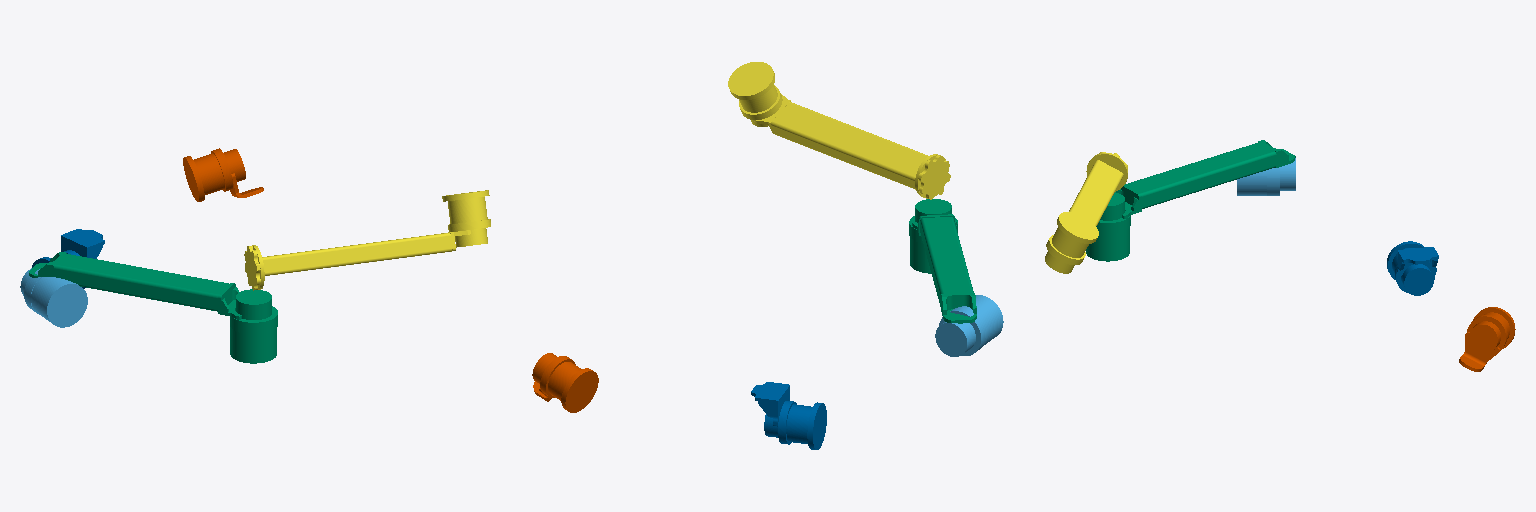
URDF robot description (Arm):
<?xml version="1.0" ?>
<robot name="Arm">


<link name="base_link">
  <inertial>
    <origin xyz="0 0 0" rpy="1.57079632679 0 0"/>
    <mass value="0.2689091995006286"/>
    <inertia ixx="0.0002408366428192344" iyy="0.0001965672947454995" izz="0.0002424930780899016" ixy="-7.00575013293154e-16" iyz="7.933863408177614e-06" ixz="-6.01067807617016e-17"/>
  </inertial>
  <visual>
    <origin xyz="0 0 2" rpy="1.57079632679 0 0"/>
    <geometry>
      <mesh filename="package://cmr_arm_sim/meshes/base_link.stl" scale="0.1 0.1 0.1"/>
    </geometry>
  </visual>
  <!-- <collision>
    <origin xyz="0 0 0" rpy="1.57079632679 0 0"/>
    <geometry>
      <mesh filename="package://cmr_arm_sim/meshes/base_link.stl" scale="0.1 0.1 0.1"/>
    </geometry>
  </collision> -->
</link>

<link name="shoulder">
  <inertial>
    <origin xyz="0 -0.044 -3.078" rpy="-1.57079632679 0 0"/>
    <mass value="0.4313488821929788"/>
    <inertia ixx="0.0003124994298400346" iyy="0.0005106434645971917" izz="0.0005464028450648415" ixy="-2.483982786710172e-05" iyz="-4.971764224987835e-06" ixz="5.171870177614032e-06"/>
  </inertial>
  <visual>
    <origin xyz="0 -0.044 .342" rpy="-1.57079632679 0 0"/>
    <geometry>
      <mesh filename="package://cmr_arm_sim/meshes/shoulder.stl" scale="0.1 0.1 0.1"/>
    </geometry>
  </visual>
  <!-- <collision>
    <origin xyz="0 -0.044 .342" rpy="-1.57079632679 0 0"/>
    <geometry>
      <mesh filename="package://cmr_arm_sim/meshes/shoulder.stl" scale="0.1 0.1 0.1"/>
    </geometry>
  </collision> -->
</link>

<link name="lower_arm">
  <inertial>
    <origin xyz="0 0 0" rpy="0 0 0"/>
    <mass value="0.6171685502216904"/>
    <inertia ixx="0.0063731112041358895" iyy="0.0002193424289573356" izz="0.006262212418448342" ixy="2.9581372074094503e-15" iyz="7.108667432481271e-18" ixz="2.3372990857653054e-19"/>
  </inertial>
  <visual>
    <origin xyz="0 0 0" rpy="0 0 0"/>
    <geometry>
      <mesh filename="package://cmr_arm_sim/meshes/lower_arm.stl" scale="0.1 0.1 0.1"/>
    </geometry>
  </visual>
  <!-- <collision>
    <origin xyz="0 0 0" rpy="0 0 0"/>
    <geometry>
      <mesh filename="package://cmr_arm_sim/meshes/lower_arm.stl" scale="0.1 0.1 0.1"/>
    </geometry>
  </collision> -->
</link>

<link name="upper_arm">
  <inertial>
    <origin xyz="0 -1.4425 0" rpy="0 0 0"/>
    <mass value="1.0473806295634103"/>
    <inertia ixx="0.01731119919222368" iyy="0.0008396658760116199" izz="0.01753140472050435" ixy="0.0011267961891559507" iyz="1.7658594867117153e-05" ixz="-7.452645136013033e-06"/>
  </inertial>
  <visual>
    <origin xyz="0 1.4425 0" rpy="0 0 0"/>
    <geometry>
      <mesh filename="package://cmr_arm_sim/meshes/upper_arm.stl" scale="0.1 0.1 0.1"/>
    </geometry>
  </visual>
  <!-- <collision>
    <origin xyz="0 1.4425 0" rpy="0 0 0"/>
    <geometry>
      <mesh filename="package://cmr_arm_sim/meshes/upper_arm.stl" scale="0.1 0.1 0.1"/>
    </geometry>
  </collision> -->
</link>

<link name="wrist_rotate">
  <inertial>
    <origin xyz="0 0 0" rpy="0 0 0"/>
    <mass value="0.2260913074125969"/>
    <inertia ixx="0.00021278553590153848" iyy="0.00013932651115324126" izz="0.00018035542785257985" ixy="2.097343119030967e-06" iyz="-5.926051072718819e-06" ixz="6.671150022647325e-07"/>
  </inertial>
  <visual>
    <origin xyz="-.112 -2.885 0" rpy="3.14159265358979323846264338327 0 0"/>
    <geometry>
      <mesh filename="package://cmr_arm_sim/meshes/wrist_rotate.stl" scale="0.1 0.1 0.1"/>
    </geometry>
  </visual>
  <!-- <collision>
    <origin xyz="-.112 -2.885 0" rpy="3.14159265358979323846264338327 0 0"/>
    <geometry>
      <mesh filename="package://cmr_arm_sim/meshes/wrist_rotate.stl" scale="0.1 0.1 0.1"/>
    </geometry>
  </collision> -->
</link>

<link name="wrist_twist_rotate">
  <inertial>
    <origin xyz="0 0 0" rpy="0 0 0"/>
    <mass value="0.4389803651612308"/>
    <inertia ixx="0.00040070141851661356" iyy="0.001209612370818616" izz="0.001204139896083145" ixy="0.00013623958530035226" iyz="-2.0352344504863396e-05" ixz="0.0001534404246037917"/>
  </inertial>
  <visual>
    <origin xyz="-.115 -2.68 -0.00508" rpy="3.14159265358979323846264338327 0 0"/>
    <geometry>
      <mesh filename="package://cmr_arm_sim/meshes/wrist_twist_rotate.stl" scale="0.1 0.1 0.1"/>
    </geometry>
  </visual>
  <!-- <collision>
    <origin xyz="-.115 -2.68 -0.00508" rpy="3.14159265358979323846264338327 0 0"/>
    <geometry>
      <mesh filename="package://cmr_arm_sim/meshes/wrist_twist_rotate.stl" scale="0.1 0.1 0.1"/>
    </geometry>
  </collissignal_handler(signum=2)
[rviz2-1] [INFO] [1707512595.234300458] [rclcpp]: signal_handion> -->
</link>

<link name="end_effector">
  <inertial>
    <origin xyz="0 0 0" rpy="0 0 0"/>
    <mass value="0.4985786647054013"/>
    <inertia ixx="0.0007315326979296377" iyy="0.0014043612271926742" izz="0.0010429988376861876" ixy="9.658048714039635e-05" iyz="-0.0001831704203076462" ixz="3.722825937527846e-05"/>
  </inertial>
  <visual>
    <origin xyz="-.195 -.38 .15" rpy="-1.57079632679 0 1.57079632679"/> 
    <geometry>
      <mesh filename="package://cmr_arm_sim/meshes/end_effector.stl" scale=".0039 .0039 .0039"/>
    </geometry>
  </visual>
  <!-- <collision>
    <origin xyz="-.195 -.38 .15 " rpy="-1.57079632679 0 1.57079632679"/>
    <geometry>
      <mesh filename="package://cmr_arm_sim/meshes/end_effector.stl" scale=".0039 .0039 .0039"/>
    </geometry>
  </collision> -->
</link>

<joint name="base_joint" type="continuous">
  <origin xyz="0.0 0.04335 0.0" rpy="0 0 0"/>
  <parent link="base_link"/>
  <child link="shoulder"/>
  <axis xyz="0.0 0.0 1.0"/>
</joint>
<transmission name="base_transmission">
  <type>transmission_interface/SimpleTransmission</type>
  <joint name="base_joint"> <!-- This should match the joint name -->
    <hardwareInterface>PositionJointInterface</hardwareInterface>
  </joint>
  <actuator name="base_actuator">
    <hardwareInterface>PositionJointInterface</hardwareInterface>
    <mechanicalReduction>1</mechanicalReduction>
  </actuator>
</transmission>


<joint name="shoulder_joint" type="continuous">
  <origin xyz="0 -0.044 .361" rpy="0 0 0"/>
  <parent link="shoulder"/>
  <child link="lower_arm"/>
  <axis xyz="1 0 0"/>
</joint>
<transmission name="shoulder_transmission">
  <type>transmission_interface/SimpleTransmission</type>
  <joint name="shoulder_joint_revolute">
    <hardwareInterface>PositionJointInterface</hardwareInterface>
  </joint>
  <actuator name="shoulder_actuator">
    <hardwareInterface>PositionJointInterface</hardwareInterface>
    <mechanicalReduction>1</mechanicalReduction>
  </actuator>
</transmission>

<joint name="elbow_joint" type="continuous">
  <origin xyz="0 -1.4425 0" rpy="0 0 0"/>
  <parent link="lower_arm"/>
  <child link="upper_arm"/>
  <axis xyz="1 0 0"/>
</joint>
<transmission name="elbow_transmission">
  <type>transmission_interface/SimpleTransmission</type>
  <joint name="elbow_joint_revolute">
    <hardwareInterface>PositionJointInterface</hardwareInterface>
  </joint>
  <actuator name="elbow_actuator">
    <hardwareInterface>PositionJointInterface</hardwareInterface>
    <mechanicalReduction>1</mechanicalReduction>
  </actuator>
</transmission>

<joint name="wrist_rotate" type="continuous">
  <origin xyz=".112 -1.4425 0" rpy="0 0 0"/>
  <parent link="upper_arm"/>
  <child link="wrist_rotate"/>
  <axis xyz="0 1 0"/>
</joint>
<transmission name="wrist_rotate_transmission">
  <type>transmission_interface/SimpleTransmission</type>
  <joint name="wrist_rotate_revolute">
    <hardwareInterface>PositionJointInterface</hardwareInterface>
  </joint>
  <actuator name="wrist_rotate_actuator">
    <hardwareInterface>PositionJointInterface</hardwareInterface>
    <mechanicalReduction>1</mechanicalReduction>
  </actuator>
</transmission>

<joint name="wrist_twist" type="continuous">
  <origin xyz="0.0 -.2 0.00508" rpy="0 0 0"/>
  <parent link="wrist_rotate"/>
  <child link="wrist_twist_rotate"/>
  <axis xyz="0 0 1"/>
</joint>
<transmission name="wrist_twist_transmission">
  <type>transmission_interface/SimpleTransmission</type>
  <joint name="wrist_twist_revolute">
    <hardwareInterface>PositionJointInterface</hardwareInterface>
  </joint>
  <actuator name="wrist_twist_actuator">
    <hardwareInterface>PositionJointInterface</hardwareInterface>
    <mechanicalReduction>1</mechanicalReduction>
  </actuator>
</transmission>

<joint name="wrist_rotate_two" type="continuous">
  <origin xyz="-.385 0 -.42" rpy="0 0 0"/>
  <parent link="wrist_twist_rotate"/>
  <child link="end_effector"/>
  <axis xyz="0 1 0"/>
</joint>
<transmission name="wrist_rotate_two_transmission">
  <type>transmission_interface/SimpleTransmission</type>
  <joint name="wrist_rotate_two_actuator">
    <hardwareInterface>PositionJointInterface</hardwareInterface>
  </joint>
  <actuator name="wrist_rotate_two_actuator">
    <hardwareInterface>PositionJointInterface</hardwareInterface>
    <mechanicalReduction>1</mechanicalReduction>
  </actuator>
</transmission>

</robot>

--- What the picture shows (computed from the rendered views, not written in the file) ---
3 views of the same robot in one strip: view 1: azimuth 30°, elevation 25°; view 2: azimuth 150°, elevation 25°; view 3: azimuth 270°, elevation 25° (orthographic).
Model Arm with 7 links and 6 joints (6 continuous), rooted at base_link, posed all joints at 0.
Visible links, largest first — view 1: lower_arm, upper_arm, shoulder, wrist_twist_rotate, wrist_rotate; view 2: upper_arm, lower_arm, wrist_rotate, wrist_twist_rotate, shoulder; view 3: lower_arm, upper_arm, wrist_twist_rotate, wrist_rotate, shoulder.
Boxes of the visible links, <box> form: lower_arm: <box>29,252,277,363</box>; upper_arm: <box>244,190,490,290</box>; shoulder: <box>20,268,87,327</box>; wrist_twist_rotate: <box>183,148,263,201</box>; wrist_rotate: <box>32,229,104,288</box>; upper_arm: <box>728,62,950,199</box>; lower_arm: <box>909,199,976,323</box>; wrist_rotate: <box>751,382,826,449</box>; wrist_twist_rotate: <box>532,353,598,412</box>; shoulder: <box>935,295,1003,356</box>; lower_arm: <box>1086,140,1295,261</box>; upper_arm: <box>1045,152,1127,273</box>; wrist_twist_rotate: <box>1459,307,1515,371</box>; wrist_rotate: <box>1387,241,1438,295</box>; shoulder: <box>1237,158,1295,195</box>.
Bounding box of the posed robot: 69.6 × 85.09 × 35.1 m (x, y, z).
Meshes: 7 distinct files referenced, 7 mesh visuals loaded (7 binary STL).
